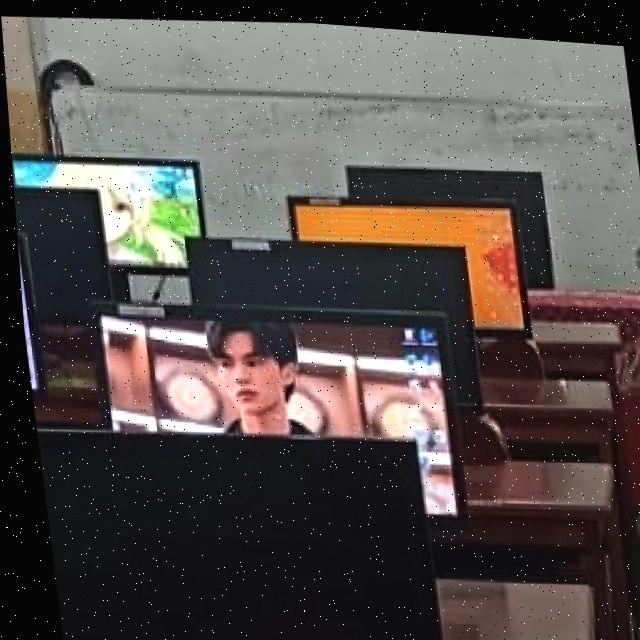offscreen: (31, 430, 429, 640), (183, 236, 476, 405), (344, 162, 551, 279), (11, 189, 106, 320)
onscreen: (95, 303, 450, 508), (287, 196, 525, 322), (9, 155, 201, 266)
